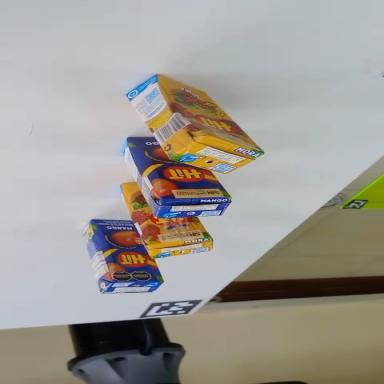HIT-MANGO: (101, 128, 238, 244), (79, 205, 165, 306)
HIT-MORA: (116, 54, 263, 202), (98, 177, 221, 280)
cara_F: (109, 125, 237, 230), (151, 59, 262, 172), (103, 177, 217, 270), (88, 203, 164, 300)
